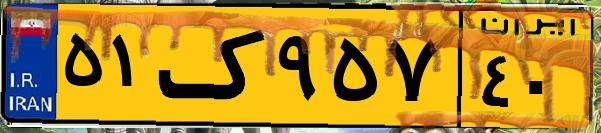0: (525, 38, 570, 115)
1: (110, 28, 158, 98)
4: (475, 38, 525, 113)
5: (330, 28, 385, 110), (57, 26, 110, 100)
7: (385, 28, 445, 110)
9: (270, 28, 330, 110)
ک: (158, 12, 270, 120)
